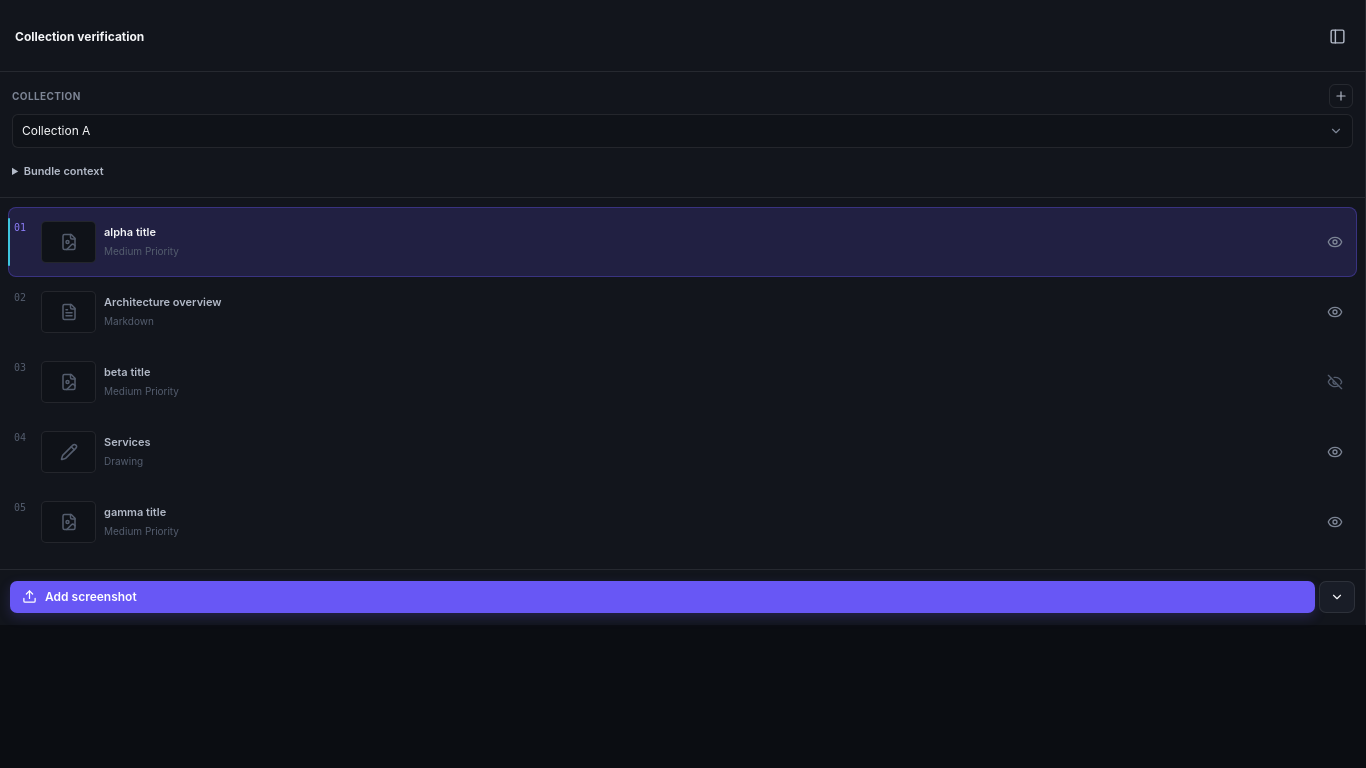
CollectionRail › orders text and drawings with screenshots and reorders them by keyboard
Press ArrowUp in the button with test id "screenshot-text", box [12, 284, 1315, 340]
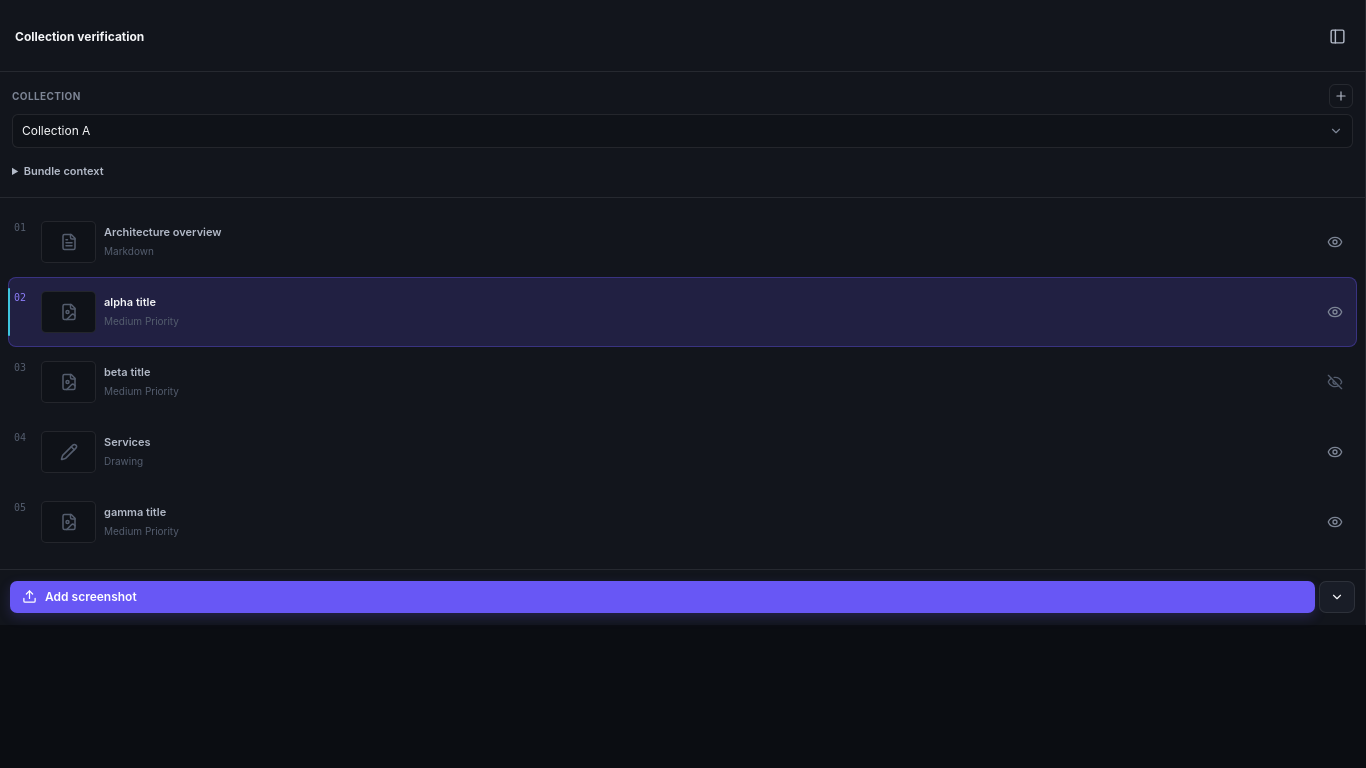
Expected: the button "Add screenshot" is shown, [10, 580, 1315, 612]
Click the button with test id "add-item-trigger".
click(1337, 596)  # box [1319, 580, 1355, 612]
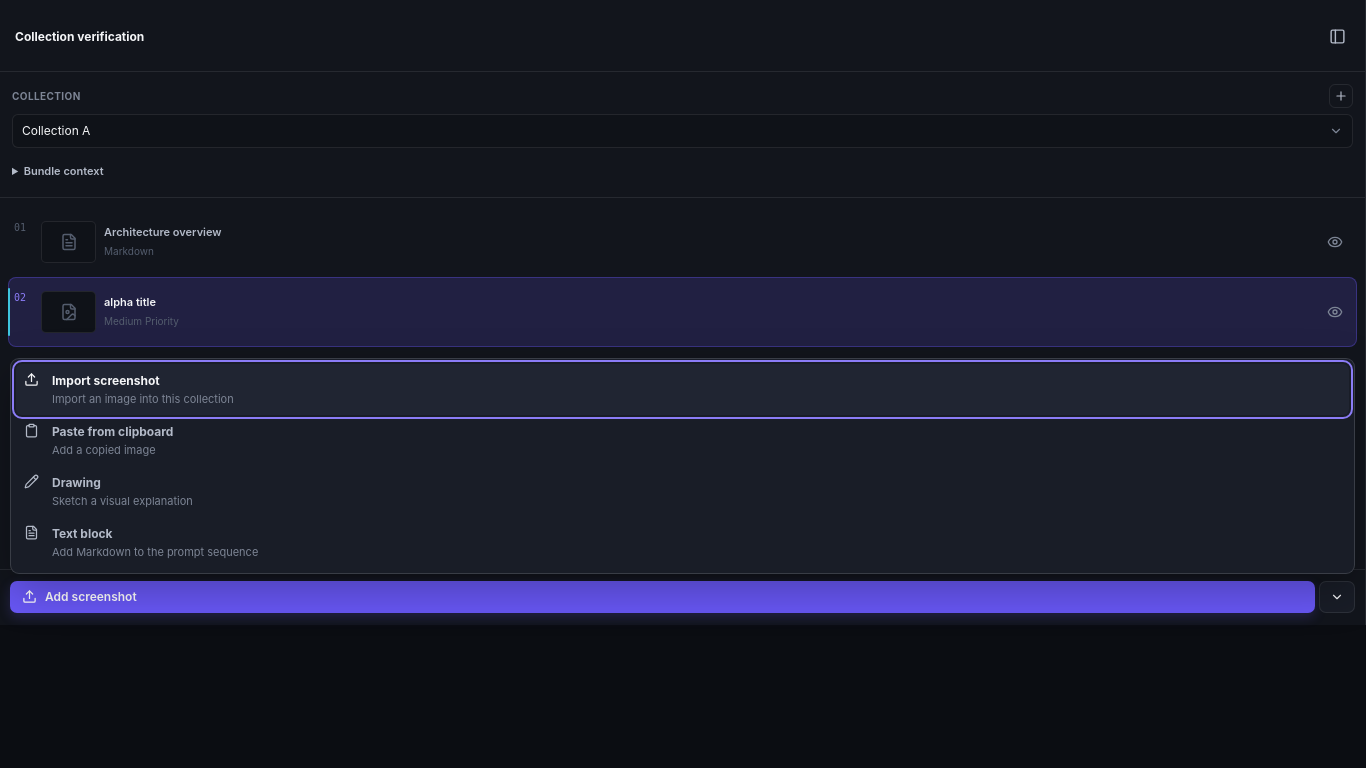
Now the menu named "Add item" is shown, box [10, 358, 1355, 574]
Now the menu item "Drawing Sketch a visual explanation" is shown, box [16, 466, 1349, 517]
Now the menu item "Text block Add Markdown to the prompt sequence" is shown, box [16, 517, 1349, 568]
